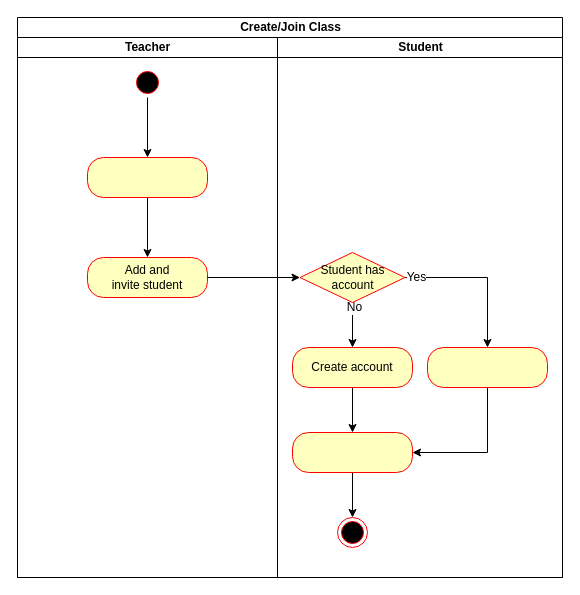
This 580x595 diagram has some shape labels left out. Here are the shapes that lost their labels. From the top down, the centre of each, then its label:
At (147,177): "Create class".
At (487,367): "Login".
At (352,452): "Confirm joining class".
